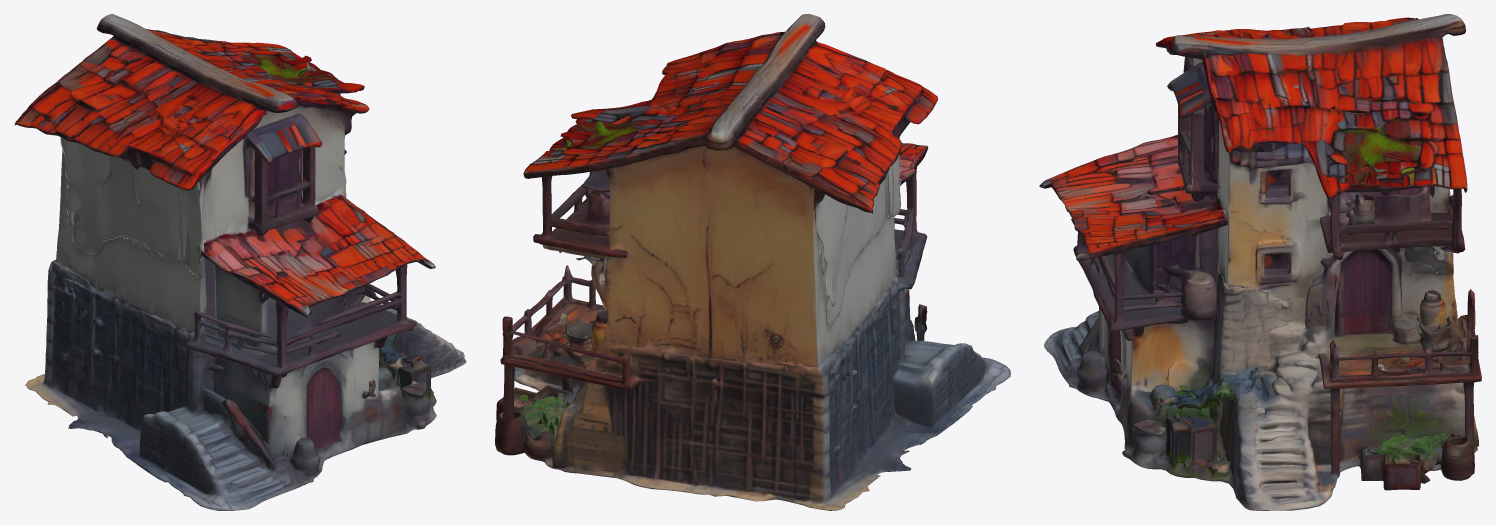
3 views of the same model, side by side, from view 1: azimuth 30°, elevation 25°; view 2: azimuth 150°, elevation 25°; view 3: azimuth 270°, elevation 25° (orthographic). The views are drawn at different scales.
Parts seen in each view (by area): view 1: tripo_node_301390b1; view 2: tripo_node_301390b1; view 3: tripo_node_301390b1.
Boxes of the visible parts, x1,y1,x2,y2 form: tripo_node_301390b1: [14, 14, 466, 510]; tripo_node_301390b1: [495, 14, 1010, 510]; tripo_node_301390b1: [1039, 14, 1481, 510].
Bounding box in the file's own units: 1 × 0.8545 × 0.9466.
1 material, 1 textured.
